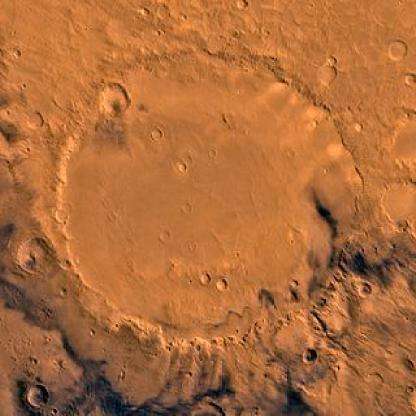craters: (55, 30, 388, 370), (92, 72, 143, 123), (12, 241, 58, 286), (13, 372, 60, 415), (341, 265, 381, 303), (312, 58, 355, 92), (331, 106, 368, 144), (384, 26, 414, 68), (3, 37, 31, 73), (142, 128, 178, 150), (154, 8, 194, 27), (299, 344, 326, 370), (136, 0, 163, 26), (25, 104, 47, 135), (166, 154, 188, 178), (12, 74, 39, 92), (194, 273, 217, 292), (50, 281, 72, 300), (212, 276, 233, 294), (399, 72, 415, 94), (14, 141, 38, 154), (232, 2, 258, 14), (6, 97, 14, 124)
